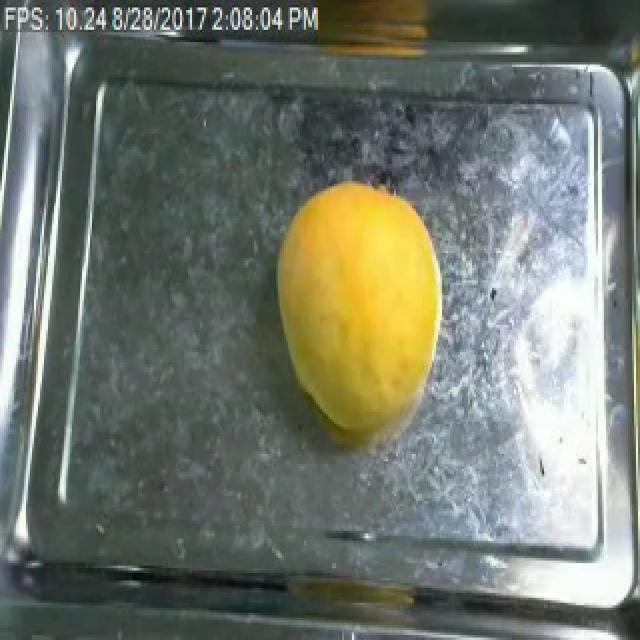fruit: (260, 169, 456, 469), (286, 0, 448, 82)
